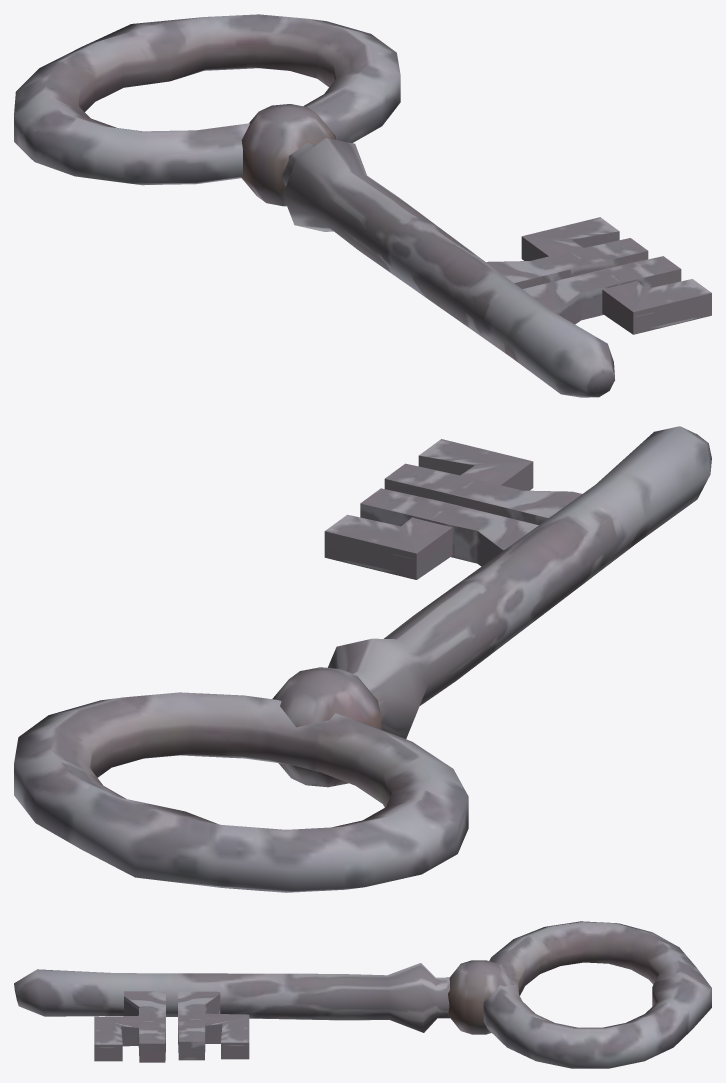
The model's file is Key_Metal.glb.
3 renders of one model, top to bottom at view 1: azimuth 30°, elevation 25°; view 2: azimuth 150°, elevation 25°; view 3: azimuth 270°, elevation 25°, orthographic. The views are drawn at different scales.
Parts seen in each view (by area): view 1: Key_Metal; view 2: Key_Metal; view 3: Key_Metal.
Part boxes in pixels (x1,y1,x2,y2): Key_Metal: (14, 14, 711, 397); Key_Metal: (14, 426, 711, 892); Key_Metal: (14, 921, 711, 1068).
Size of the model in its own units: 0.048 by 0.0124 by 0.111.
Materials: 1 (1 with a texture image).
